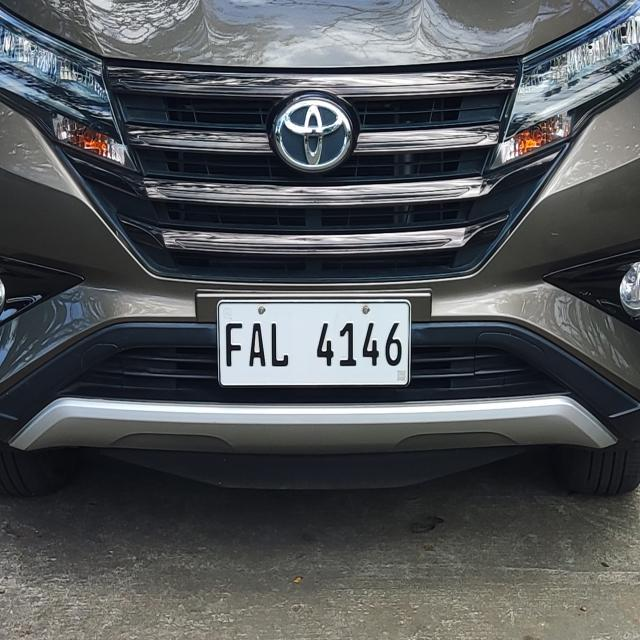LicensePlate: (199, 287, 420, 389)
